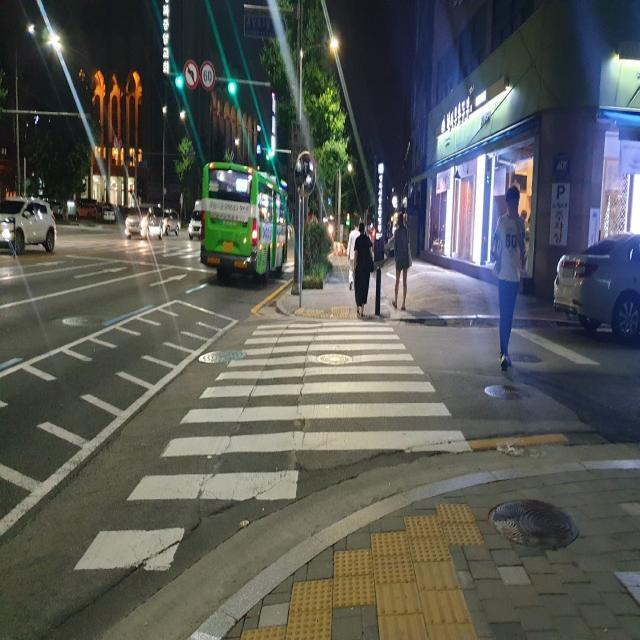횡단보도: (74, 322, 472, 570)
